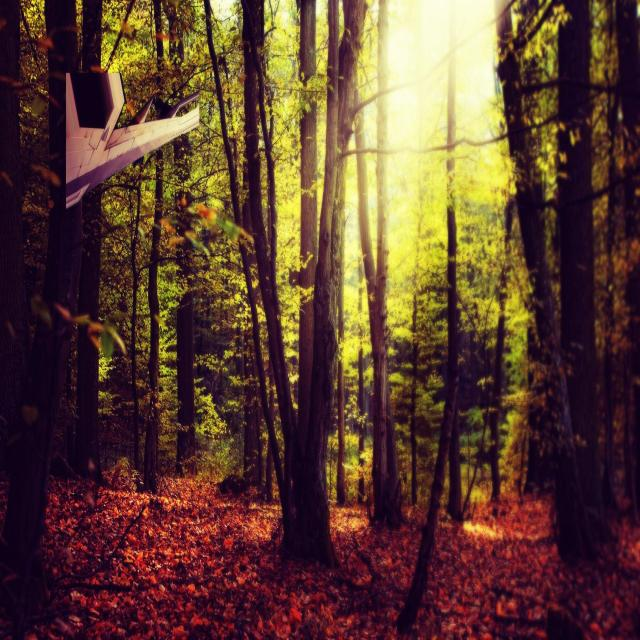airplane: (64, 69, 200, 210)
